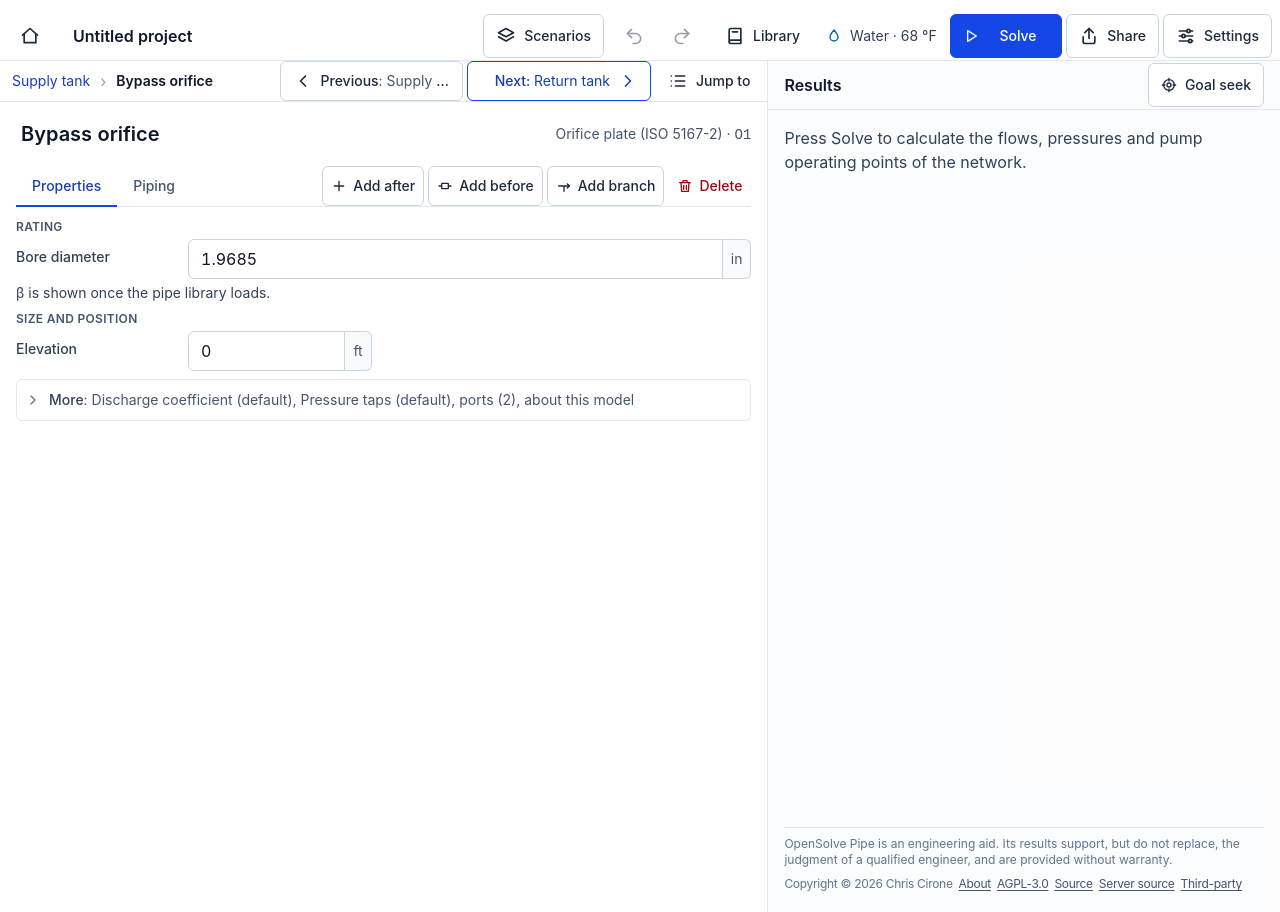
it: OrificeForm › names the bore in the display unit of diameters and stores what is typed exactly in SI
Replace the text in the field named "Bore diameter (in)" with "2": x=455, y=259 [188, 239, 723, 279]
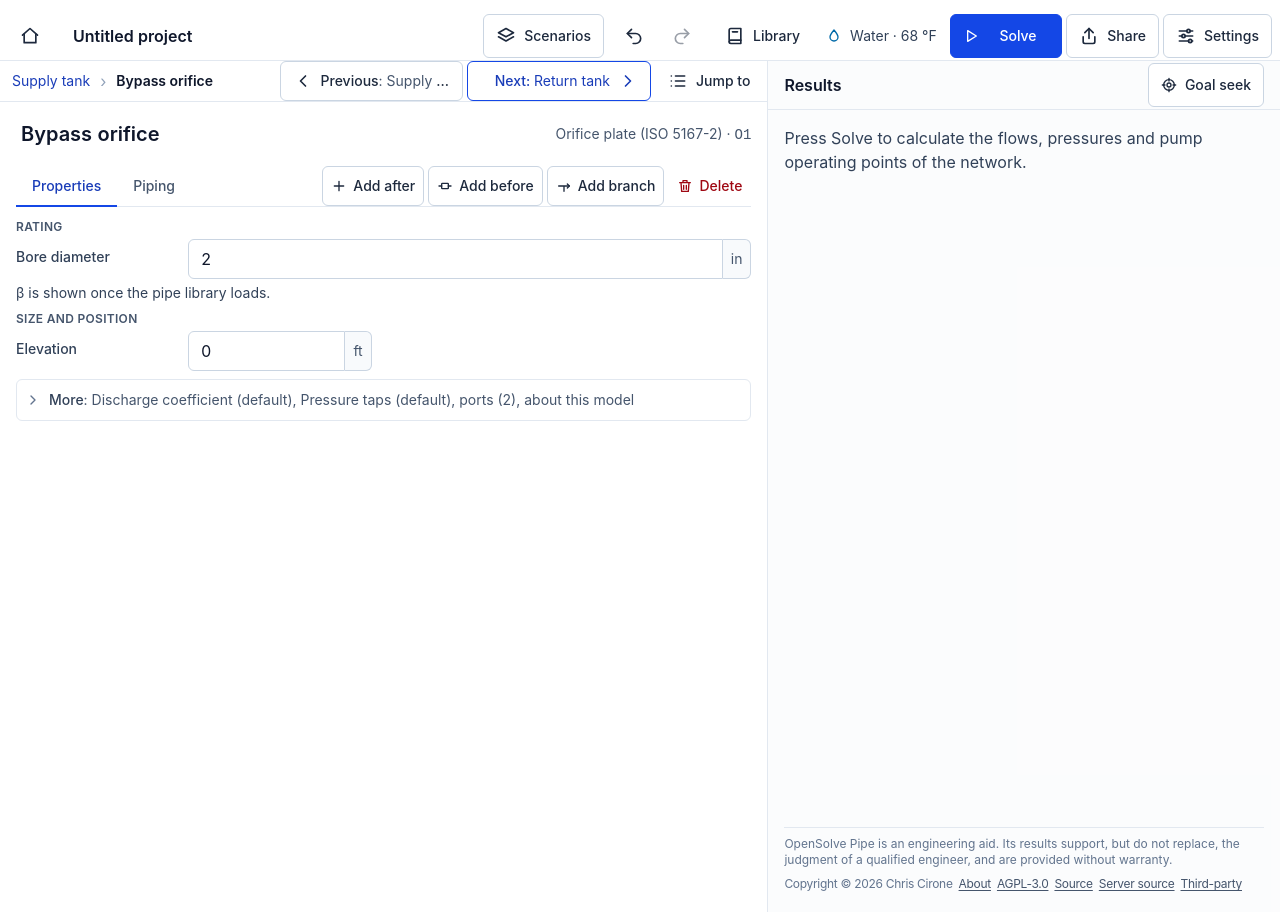
Result: the button named "Undo change bore diameter" is enabled at [612, 14, 656, 58]
Replace the text in the field named "Bore diameter (in)" with "0": x=455, y=259 [188, 239, 723, 279]
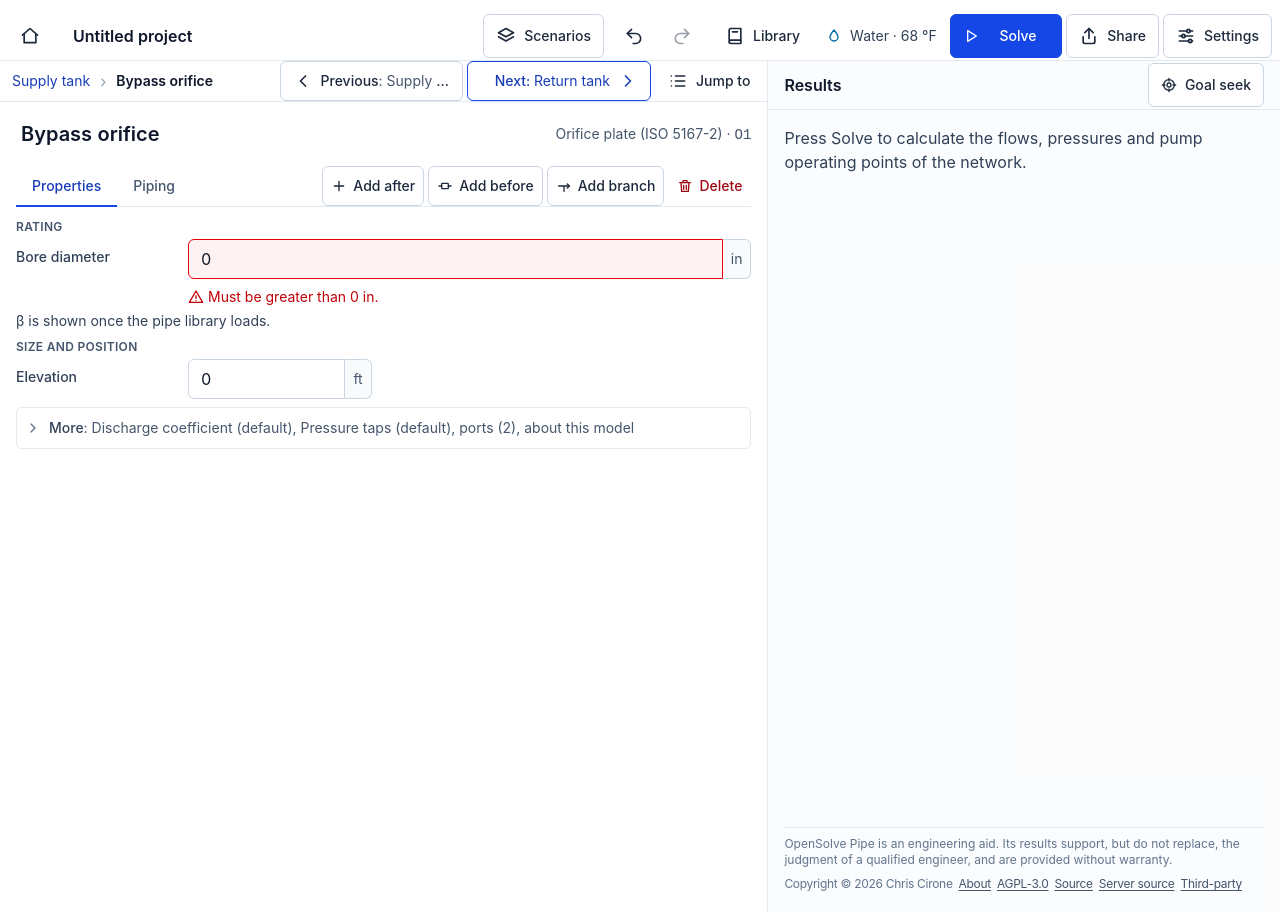
Result: the message reads "Must be greater than 0 in." at [208, 288, 378, 305]
